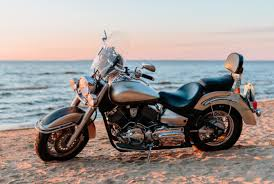motorcycle: (34, 30, 264, 162)
